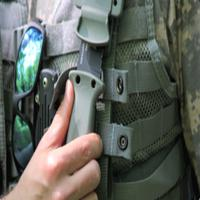knife: (47, 4, 102, 195)
